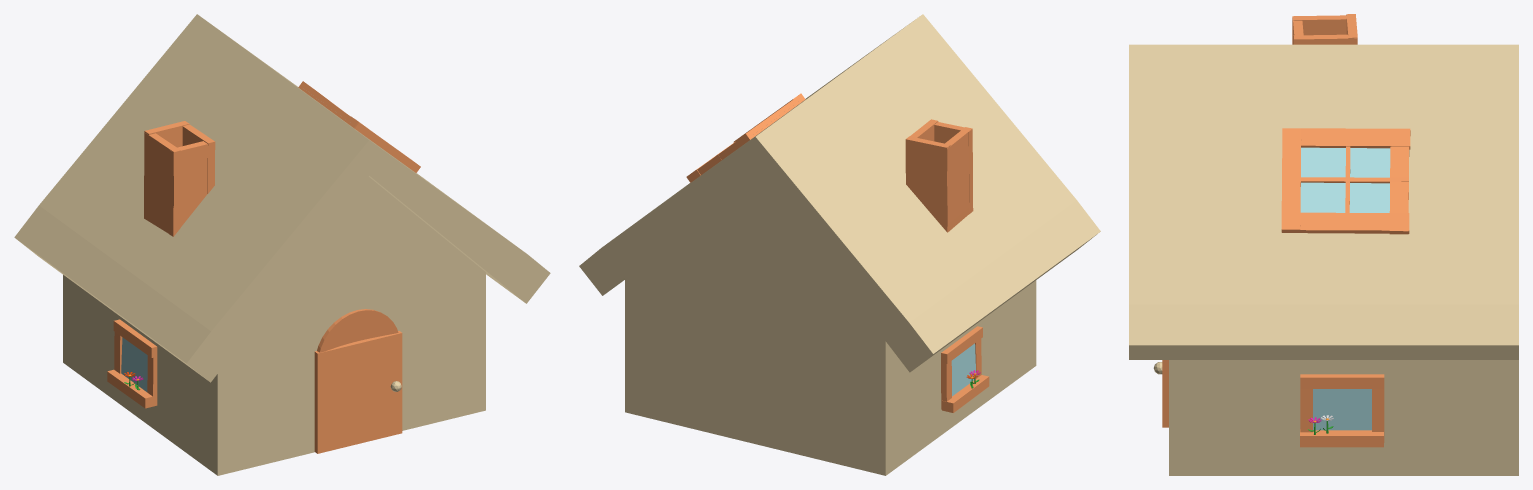
File: HouseBeige.fbx
The picture shows the model from 3 angles, left to right: view 1: azimuth 30°, elevation 25°; view 2: azimuth 150°, elevation 25°; view 3: azimuth 270°, elevation 25°; orthographic projection. The views are drawn at different scales.
Visible parts, largest first — view 1: Cube.125; view 2: Cube.125; view 3: Cube.125.
Part boxes in pixels (x1,y1,x2,y2): Cube.125: [14, 14, 550, 475]; Cube.125: [579, 14, 1100, 475]; Cube.125: [1129, 14, 1518, 475].
Bounding box in the file's own units: 47.49 × 39.38 × 38.92.
